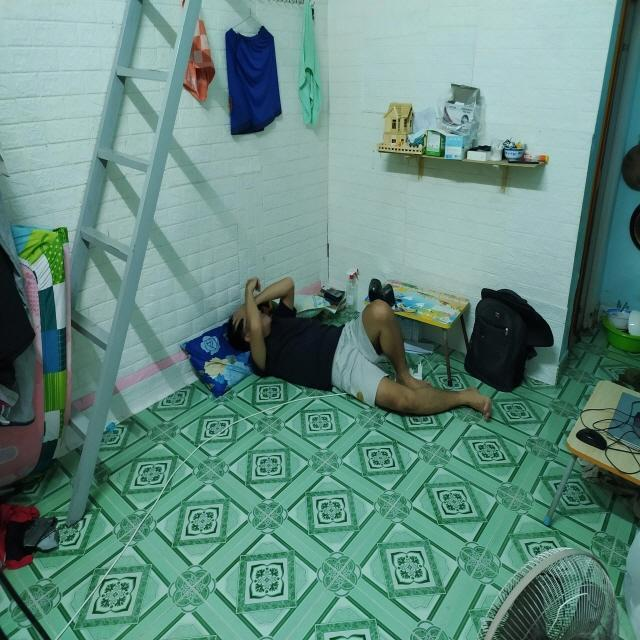Fall: (228, 278, 493, 420)
